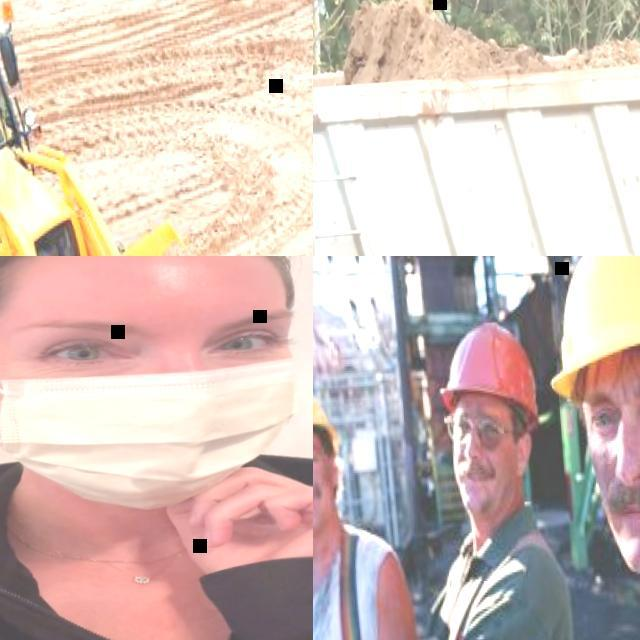Helmet: (545, 254, 640, 408), (436, 313, 541, 440), (302, 390, 358, 450)
Robbery: (0, 254, 305, 640), (433, 285, 558, 640), (550, 257, 640, 640), (310, 348, 421, 640)
